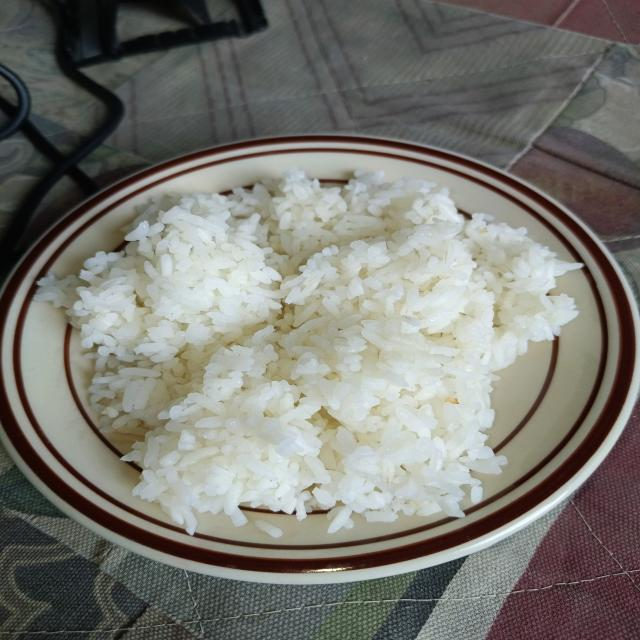Chicken -Chicken Inasal-: (129, 212, 504, 506)
